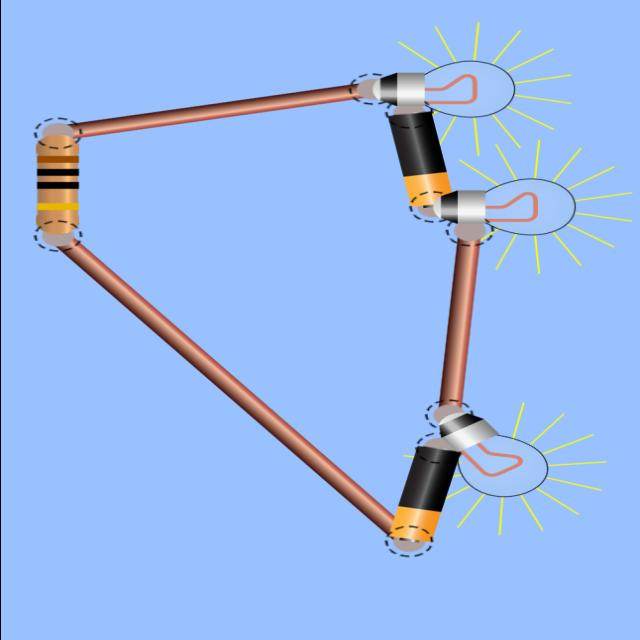Battery: (389, 439, 458, 541), (387, 106, 450, 206)
Light Bulb: (440, 412, 546, 498), (373, 61, 513, 118), (433, 179, 575, 235)
Resistor: (34, 135, 78, 234)
Wire: (58, 241, 393, 532), (66, 85, 360, 138), (440, 242, 477, 406)
